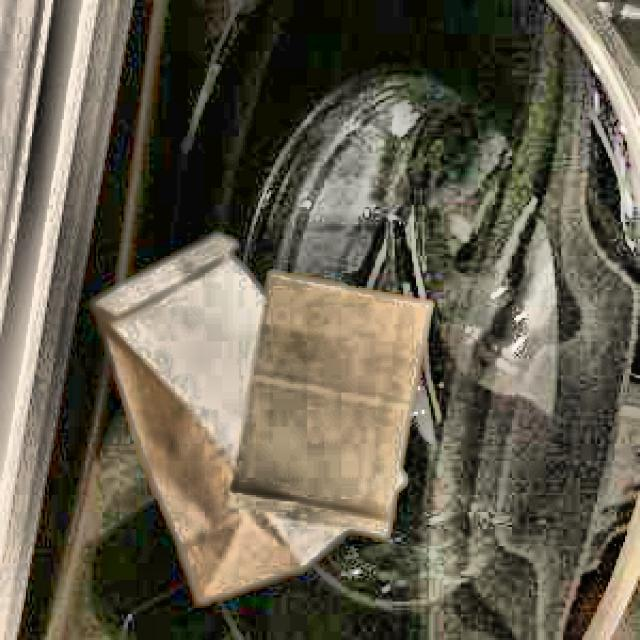Paper-bag: (72, 204, 414, 606), (222, 255, 428, 552)
